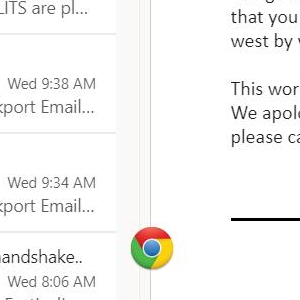chrome: (130, 226, 173, 270)
